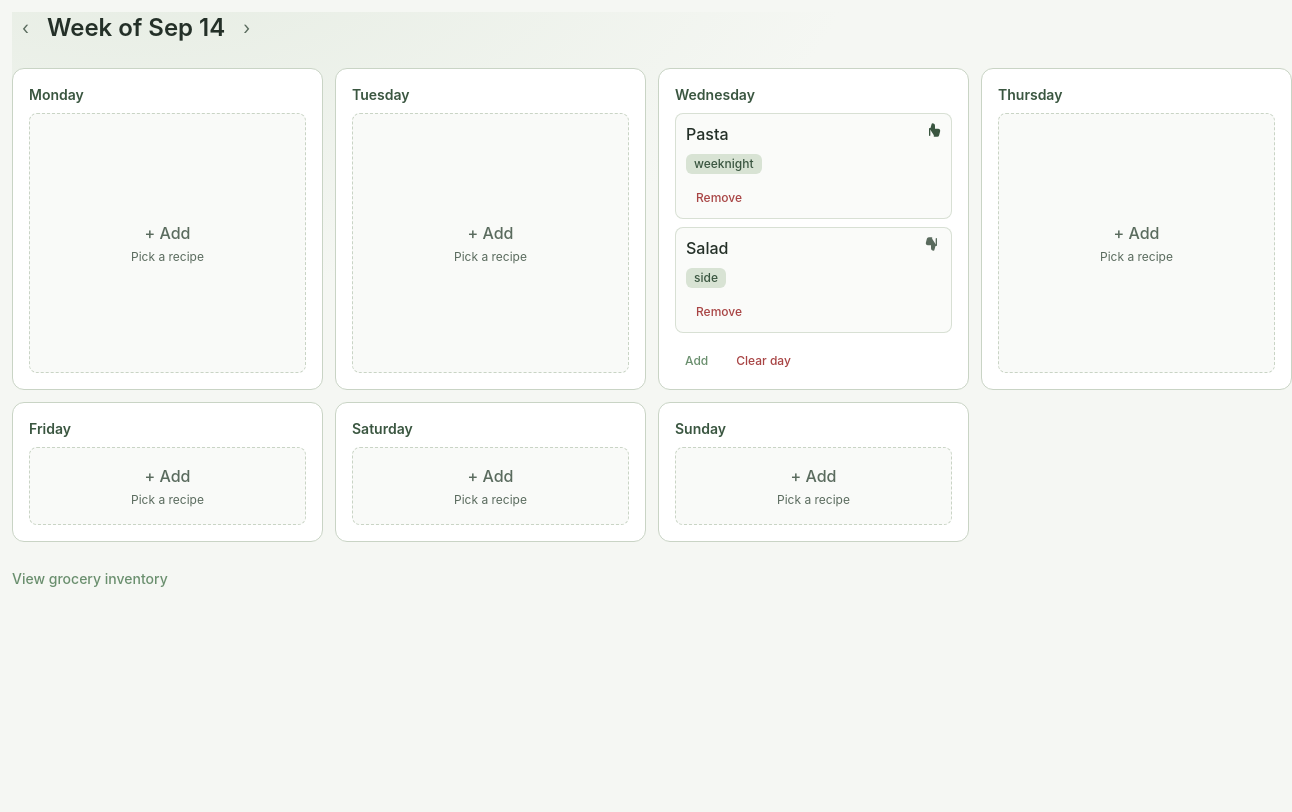
Test: WeeklyBoardPage › clears all recipes on a day
Expected: the text "Pasta" is shown, [686,122,728,146]
Click the button "Clear day" at coordinates (764, 361), box [726,349,801,373]
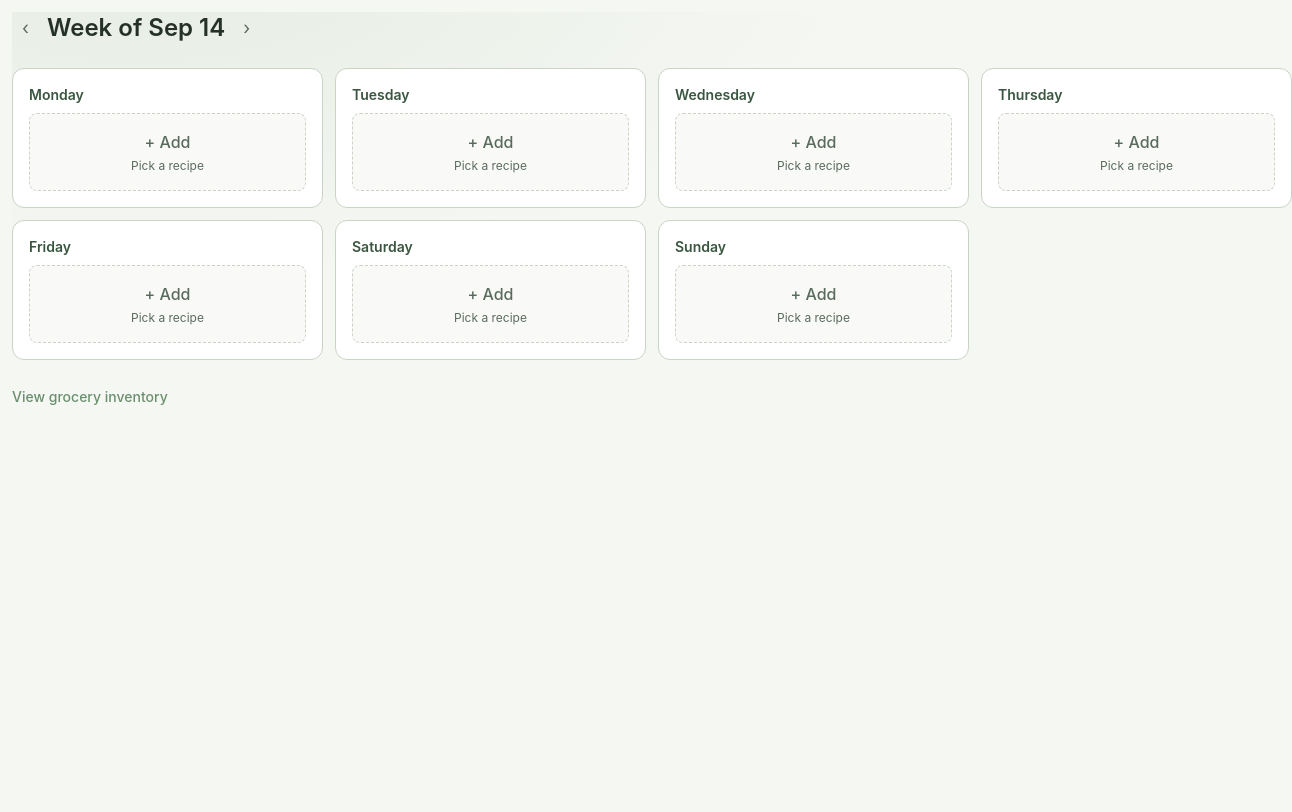
Now the text "Pasta" is gone
Now the text "Salad" is gone
Now the button "+ Add Pick a recipe" below "Wednesday" is shown, box [675,113,952,191]
